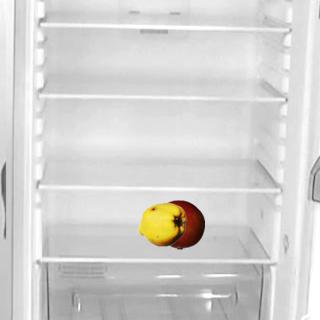Apple Braeburn: (154, 199, 204, 249)
Quince: (136, 199, 186, 249)
